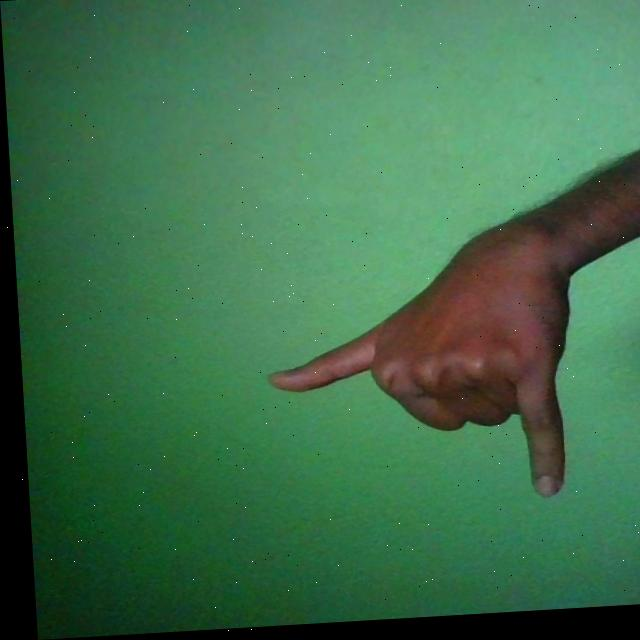Call Me: (256, 221, 575, 515)
